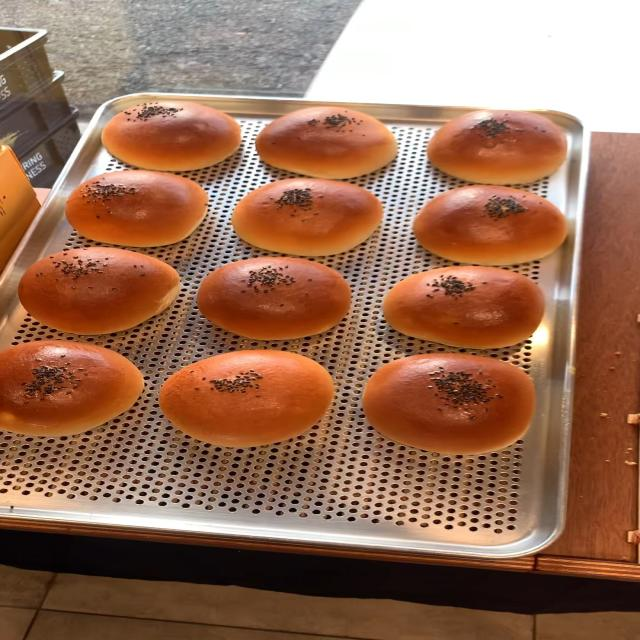bread: (159, 347, 340, 446), (365, 351, 534, 451), (13, 246, 186, 334), (379, 263, 546, 352), (409, 180, 569, 266), (0, 341, 143, 433), (229, 178, 385, 257), (197, 259, 348, 339), (422, 106, 572, 184), (253, 104, 400, 181), (98, 96, 242, 170), (64, 171, 204, 246)
